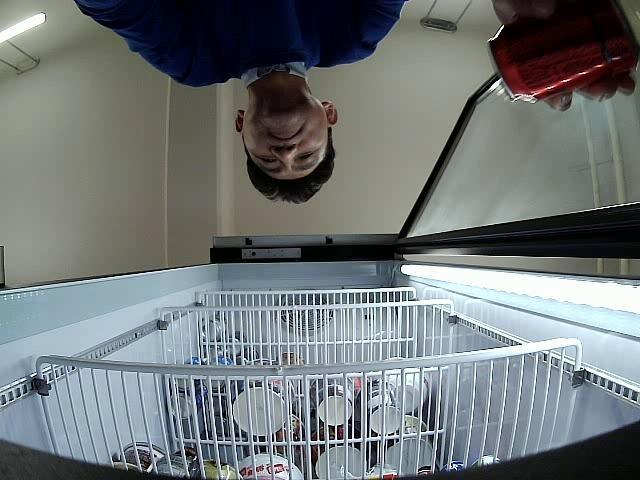11_cocaColaZero: (486, 0, 638, 102)
